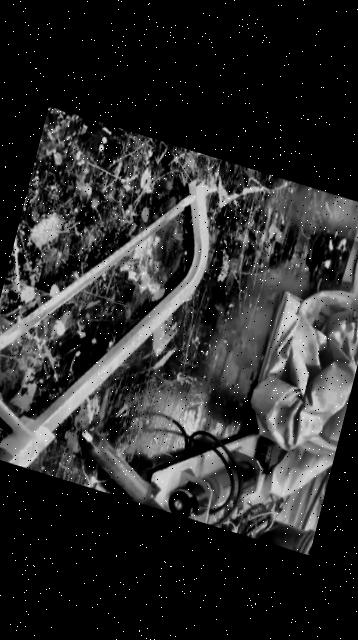pot: (242, 506, 317, 556)
